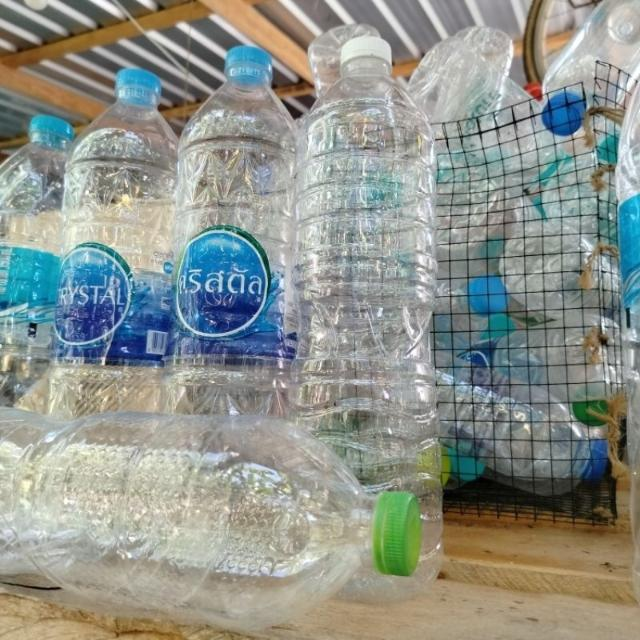PET Bottle: (306, 38, 524, 560), (0, 401, 402, 627), (62, 38, 200, 438), (169, 58, 318, 416), (0, 78, 94, 425)
